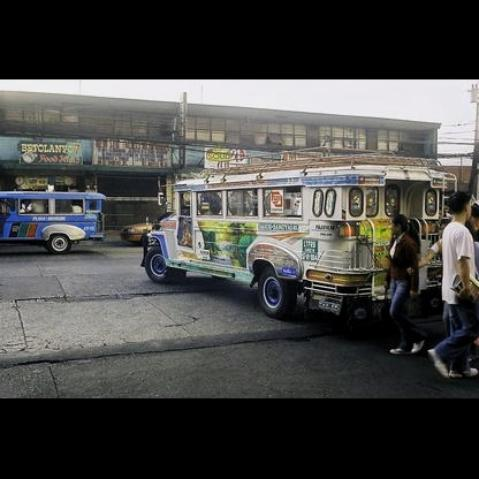jeepney: (153, 156, 451, 317), (0, 185, 106, 260)
